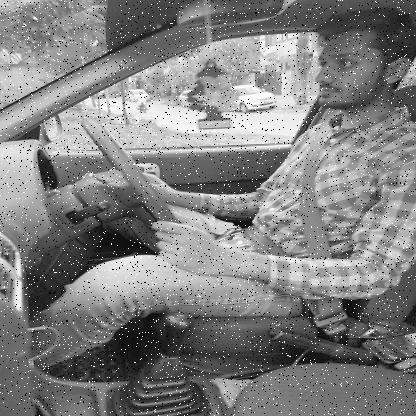seatbelt: (290, 11, 416, 251)
